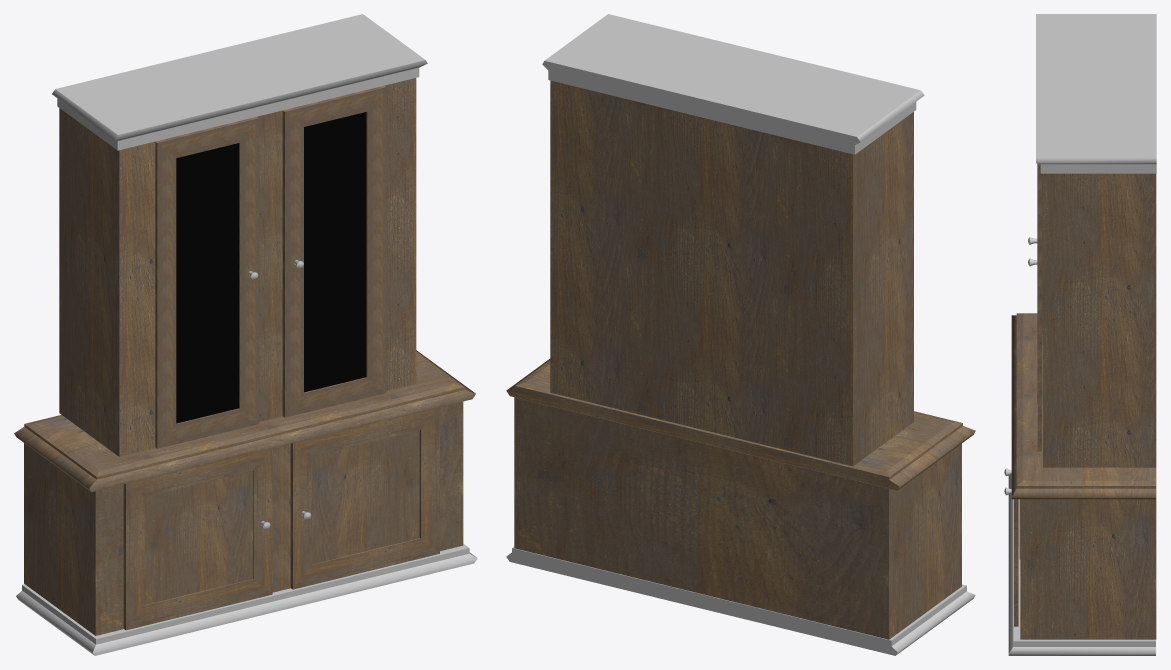
File: ChinaHutch_01_TypeA.DAE
3 views of the same model, side by side, from view 1: azimuth 30°, elevation 25°; view 2: azimuth 150°, elevation 25°; view 3: azimuth 270°, elevation 25° (orthographic). The views are drawn at different scales.
Visible parts, largest first — view 1: CabinetBase300, ChinaDoor_UR300, ChinaDoor_UL300, ChinaHutch_LL300, ChinaHutch_LR300; view 2: CabinetBase300; view 3: CabinetBase300, ChinaDoor_UR300, ChinaHutch_LR300.
Part boxes in pixels (x1,y1,x2,y2): CabinetBase300: [14, 14, 477, 655]; ChinaDoor_UR300: [282, 85, 386, 417]; ChinaDoor_UL300: [155, 117, 258, 448]; ChinaHutch_LL300: [123, 448, 272, 630]; ChinaHutch_LR300: [290, 407, 439, 589]; CabinetBase300: [506, 14, 975, 655]; CabinetBase300: [1008, 14, 1156, 655]; ChinaDoor_UR300: [1028, 163, 1042, 451]; ChinaHutch_LR300: [1004, 487, 1018, 626].
Size of what is drawn, in the model's own units: 247 by 87.42 by 305.
